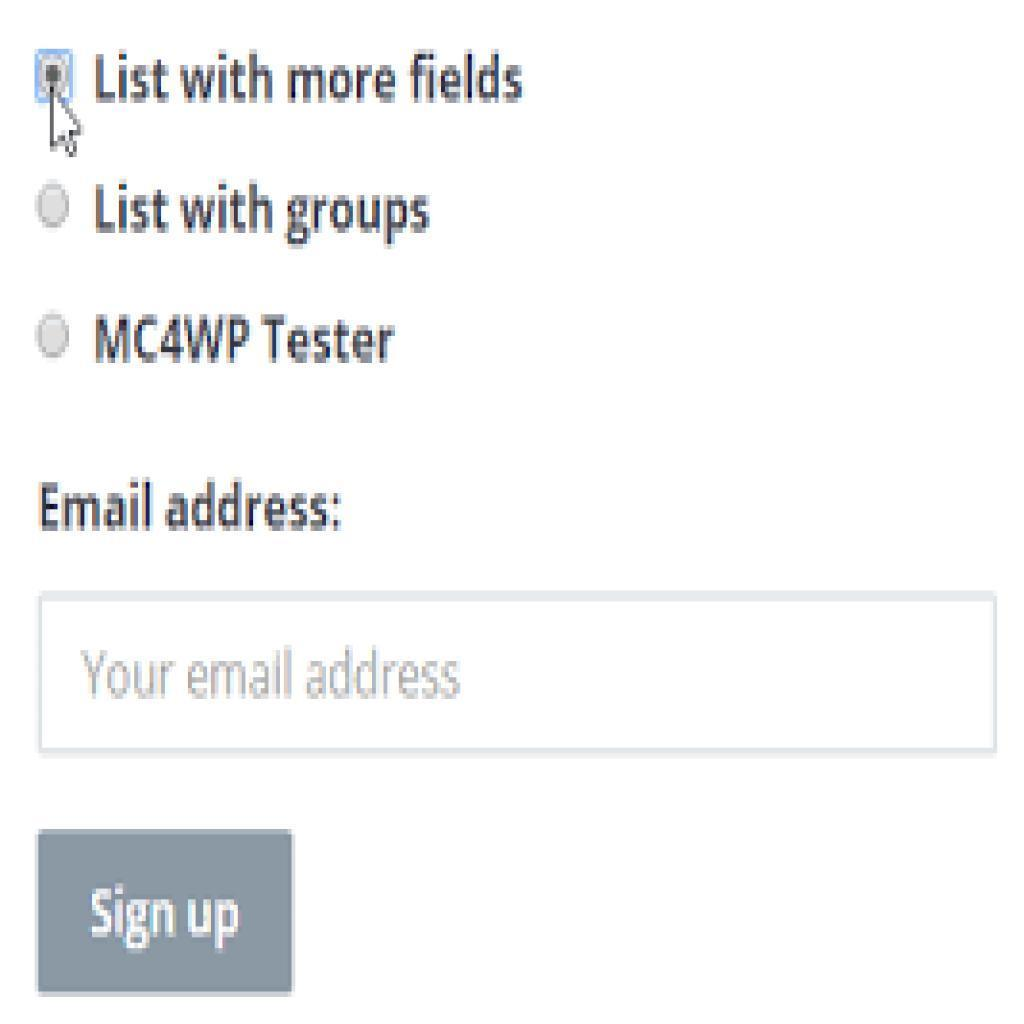button: (41, 833, 295, 996)
input: (35, 594, 998, 754)
radio: (30, 301, 78, 387), (27, 178, 77, 250)
